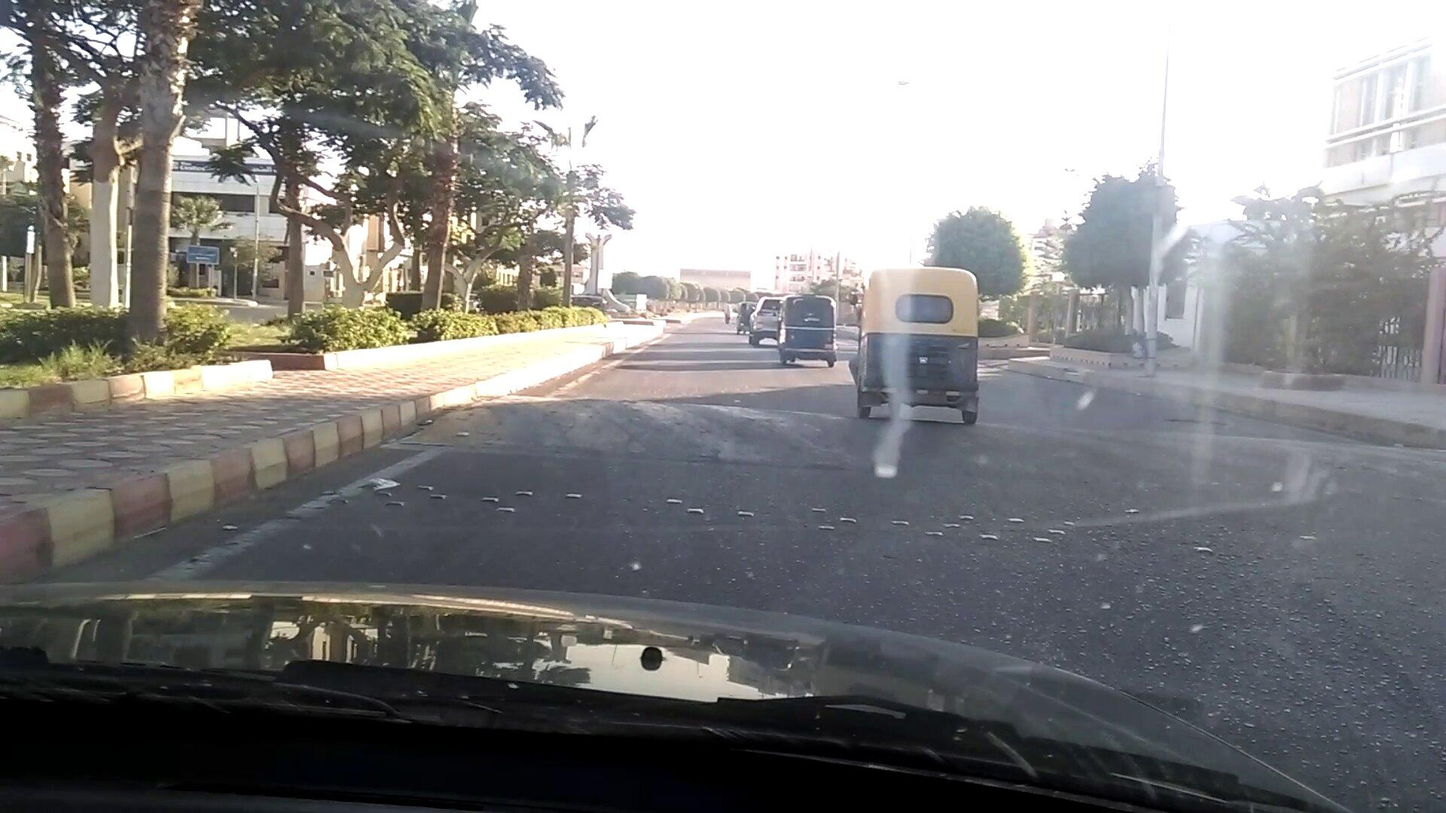Bump: (386, 390, 1444, 511)
